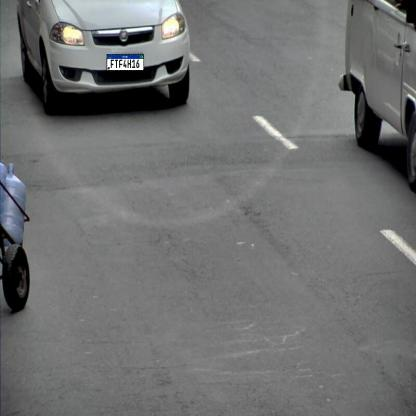PlacaM: (107, 54, 144, 71)
